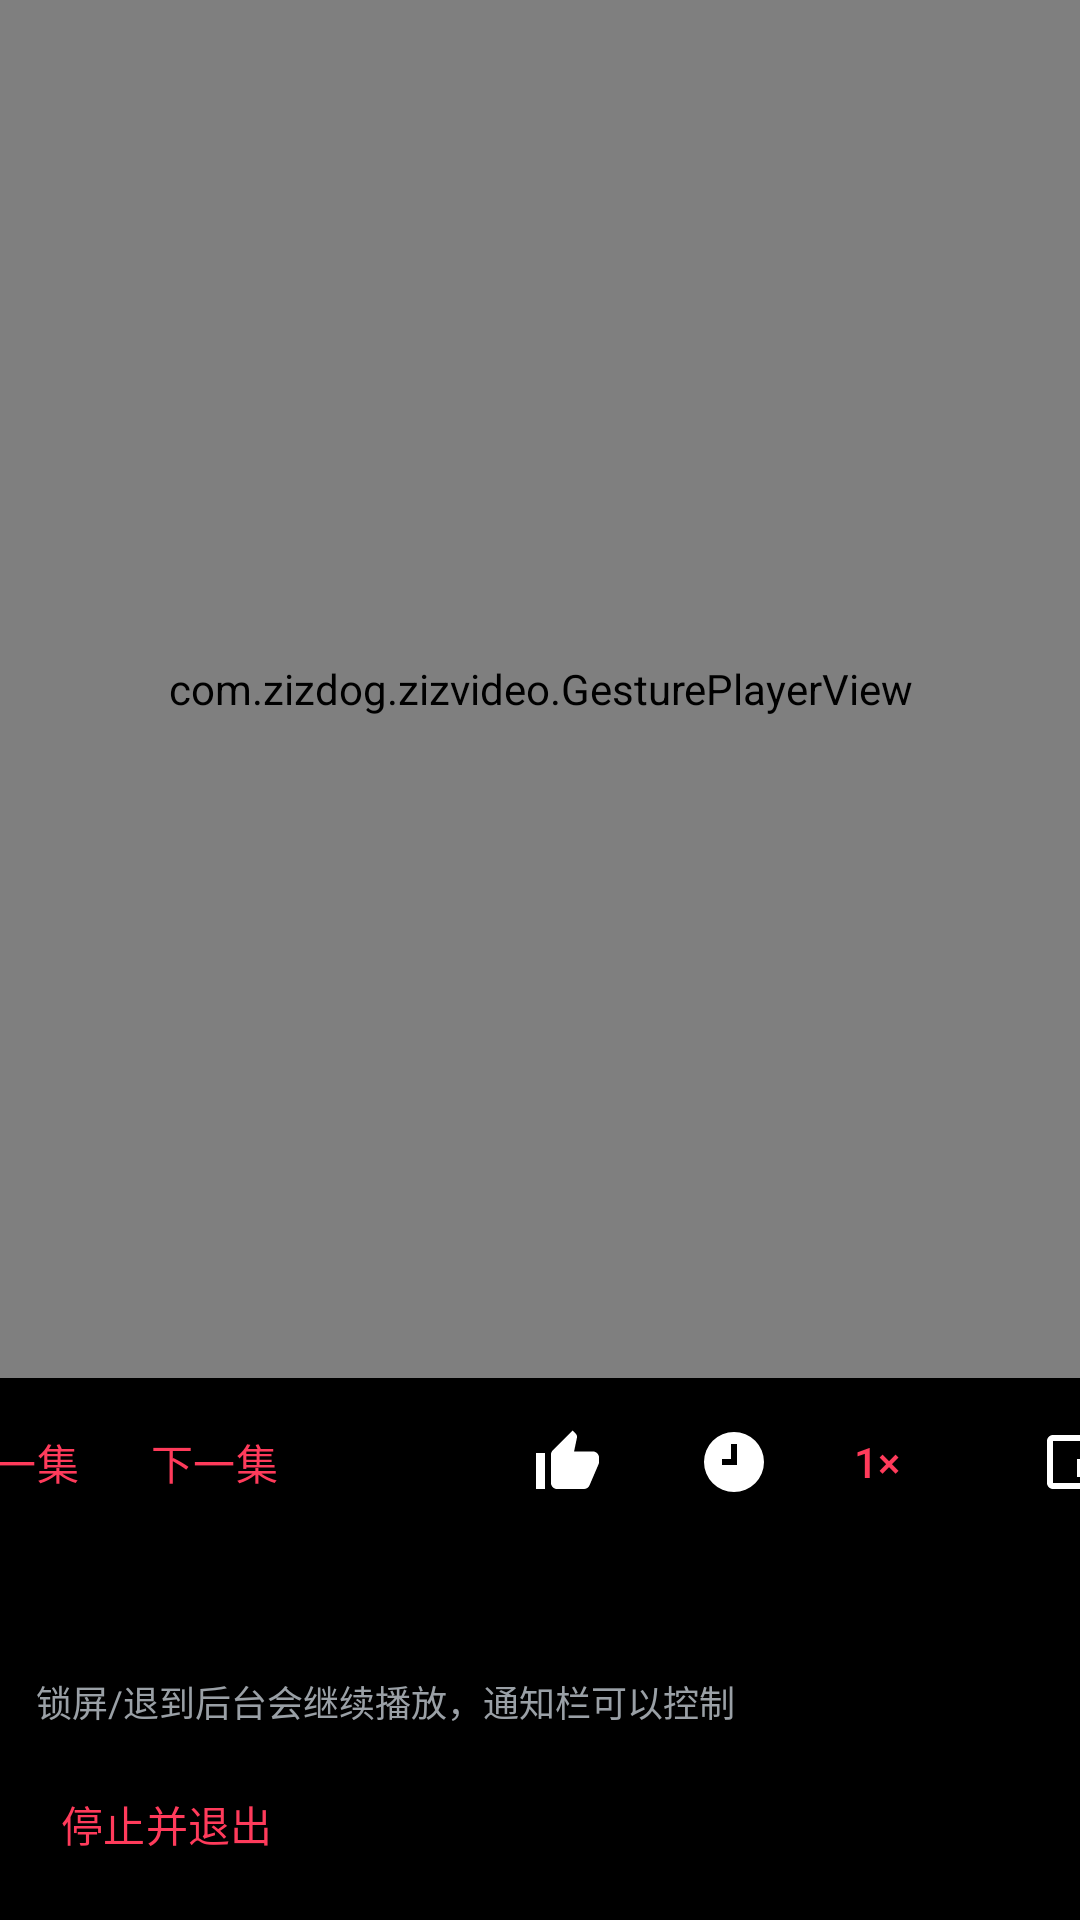

Icons on this 1080px×1920px Android screen, each with the point to tap as (x,y):
喜欢: (567,1459)
稍后再看: (734,1462)
